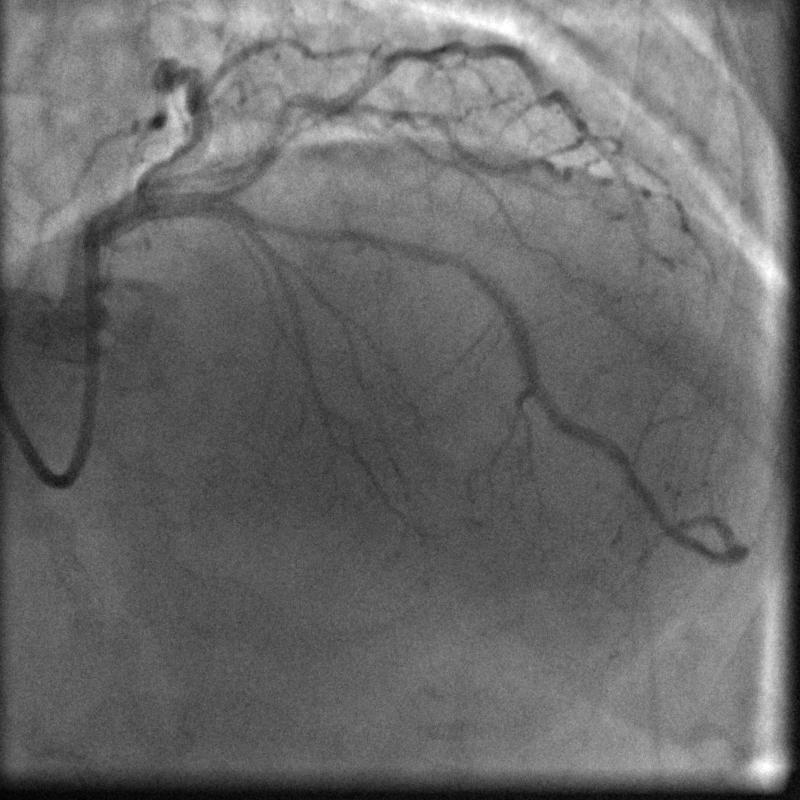Stenosis: (260, 208, 331, 246)
